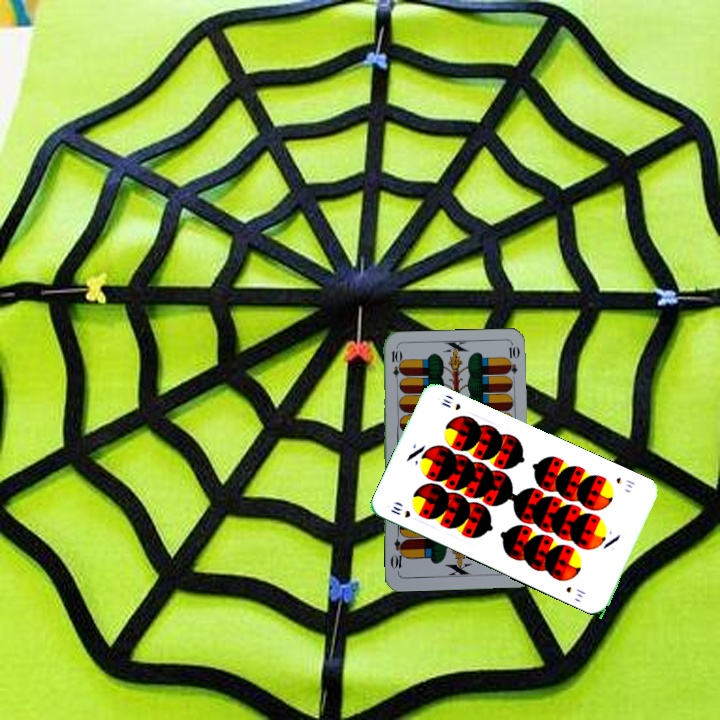E10: (387, 346, 402, 387)
S10: (387, 499, 413, 520), (612, 473, 638, 491)
